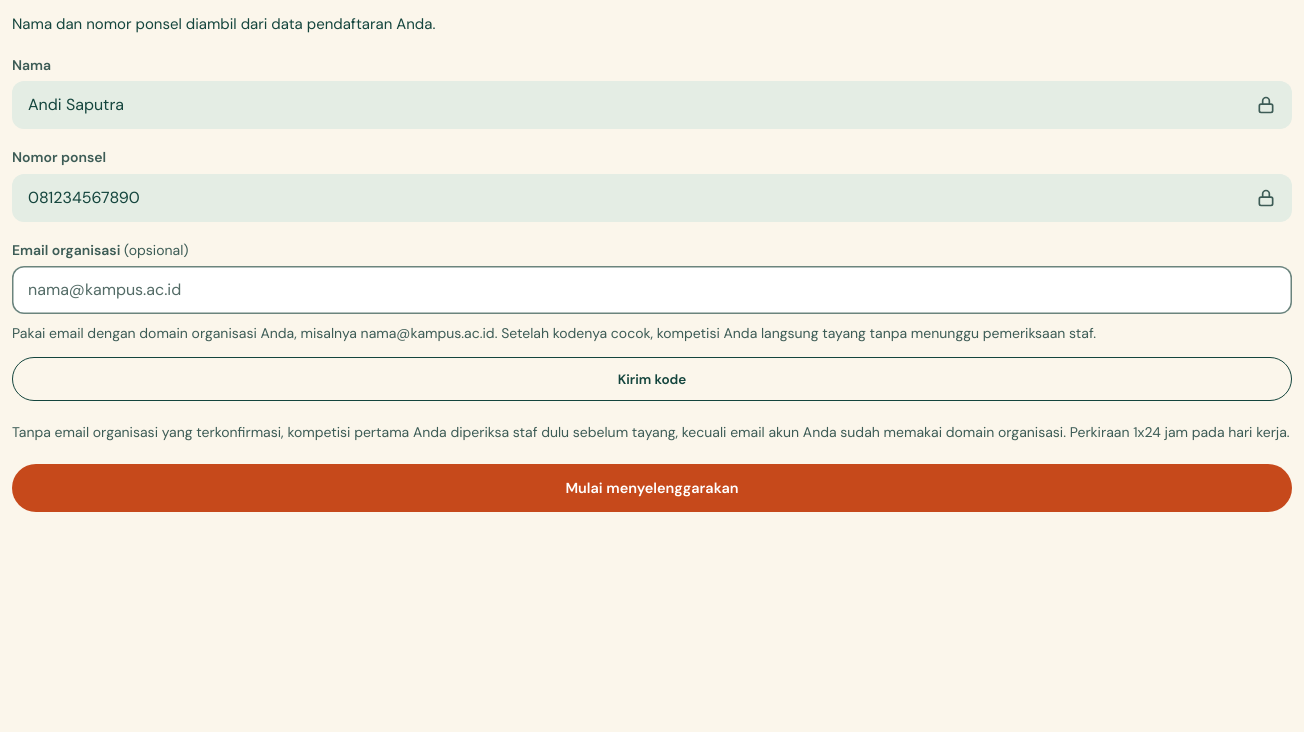
Test: the host step form › drops the staff check sentence once the Email organisasi is confirmed
Expected: the text "Tanpa email organisasi yang terkonfirmasi, kompetisi pertama Anda diperiksa staf dulu sebelum tayang, kecuali email akun" is shown, left=12, top=423, right=1290, bottom=441
In the field labelled "Email organisasi (opsional)": (652, 290) left=12, top=266, right=1292, bottom=314, type "sekretaris@kampus.example"
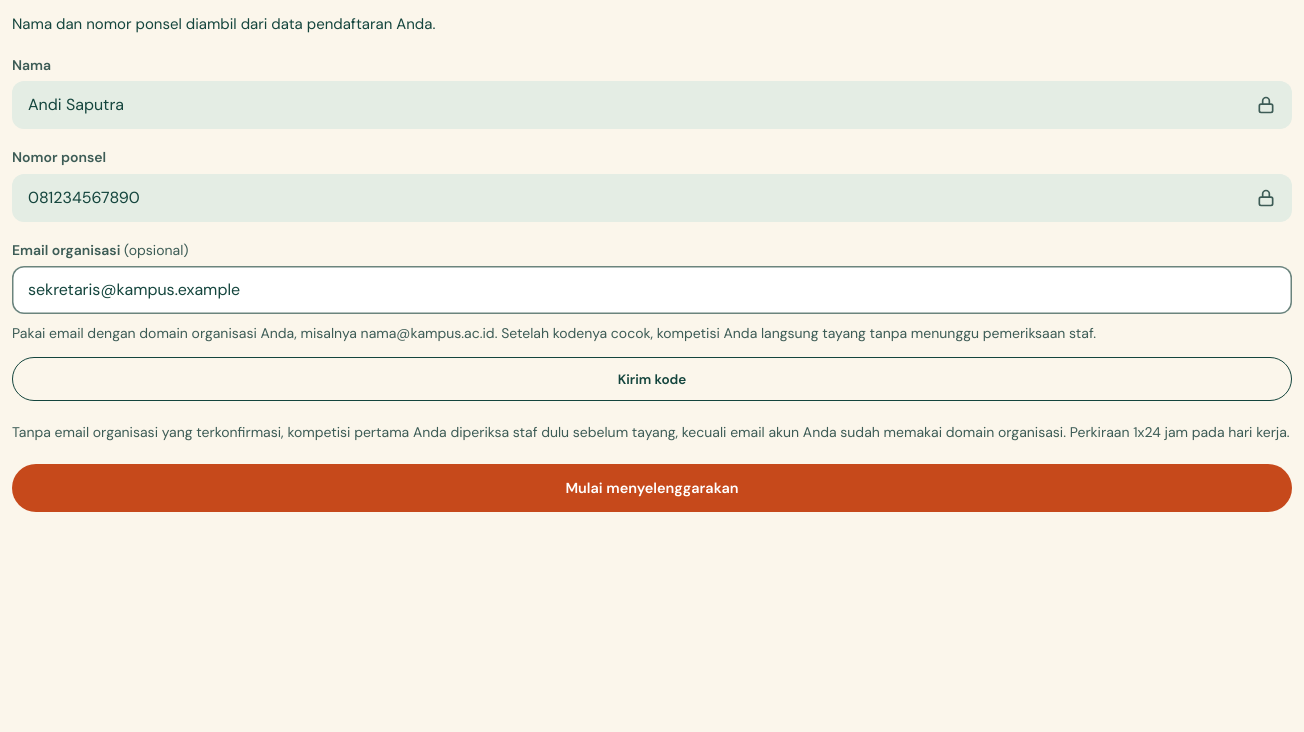
Click the button "Kirim kode": click(652, 379) left=12, top=357, right=1292, bottom=401
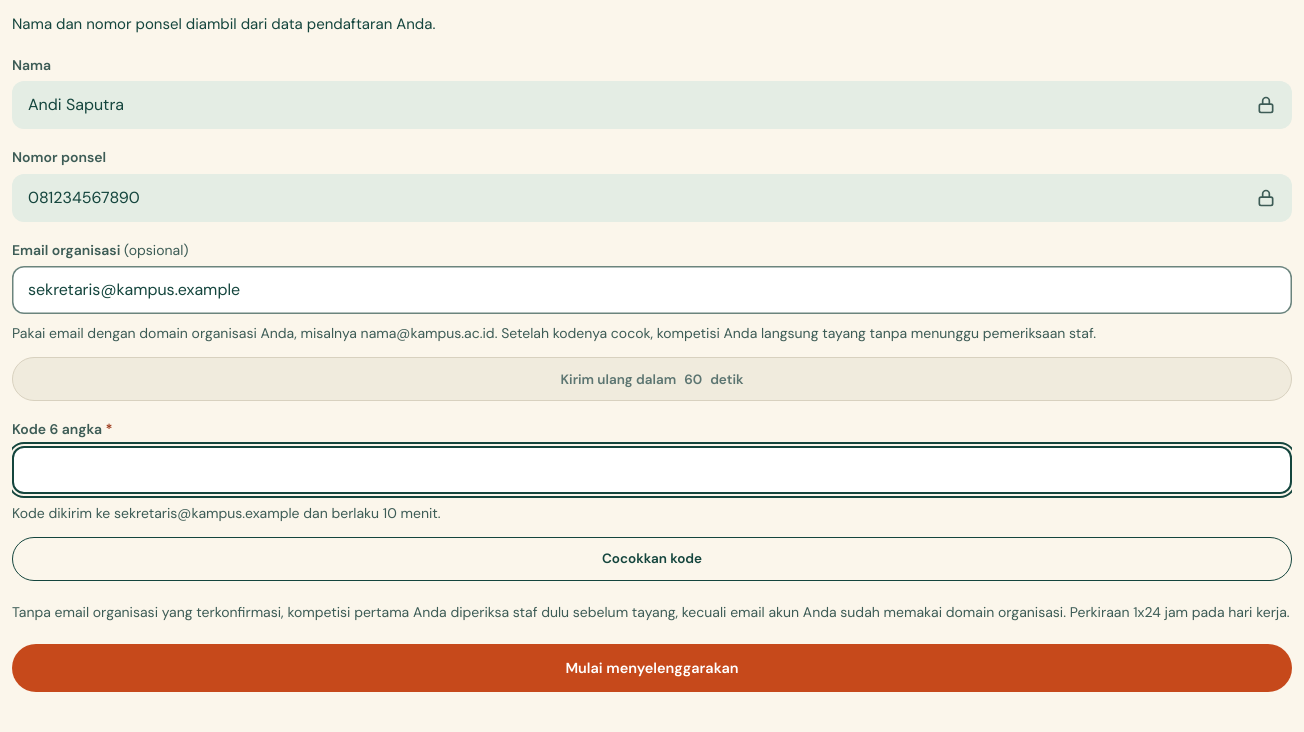
In the field labelled "Kode 6 angka *": (652, 470) left=12, top=446, right=1292, bottom=494, type "123456"
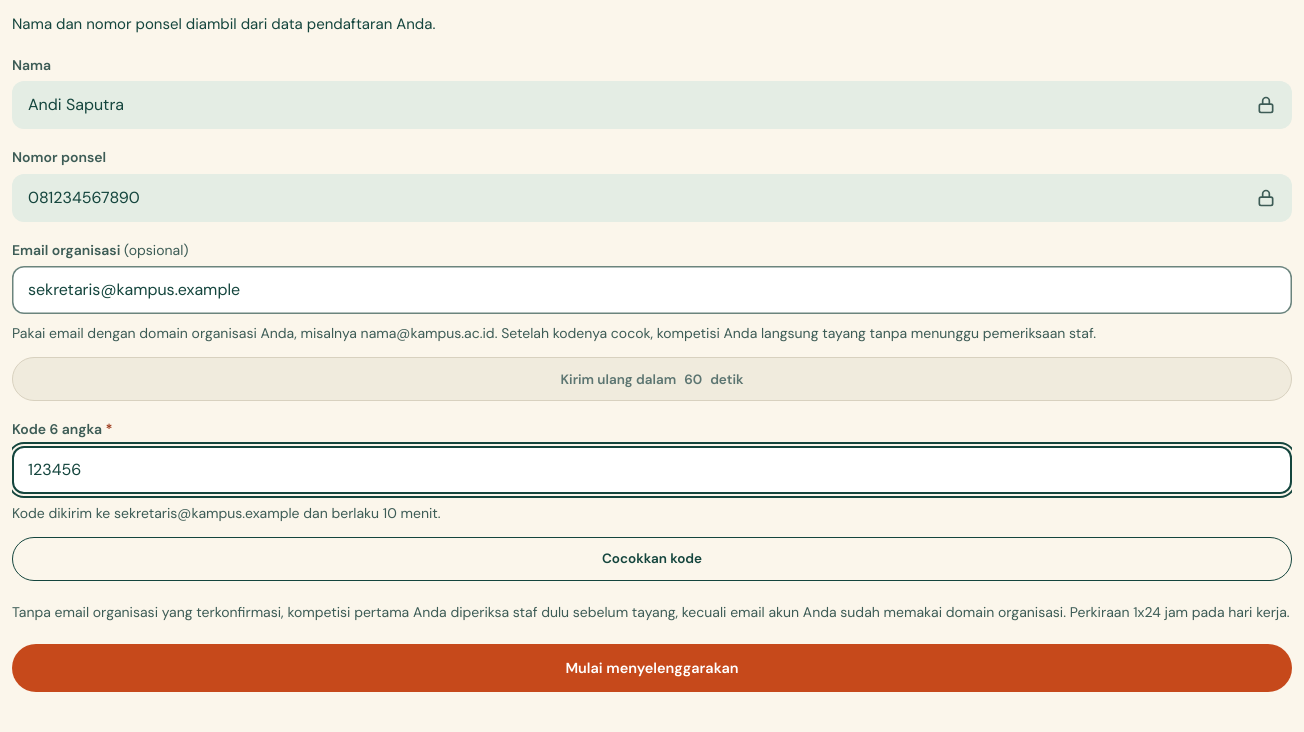
Click the button "Cocokkan kode": click(652, 559) left=12, top=537, right=1292, bottom=581
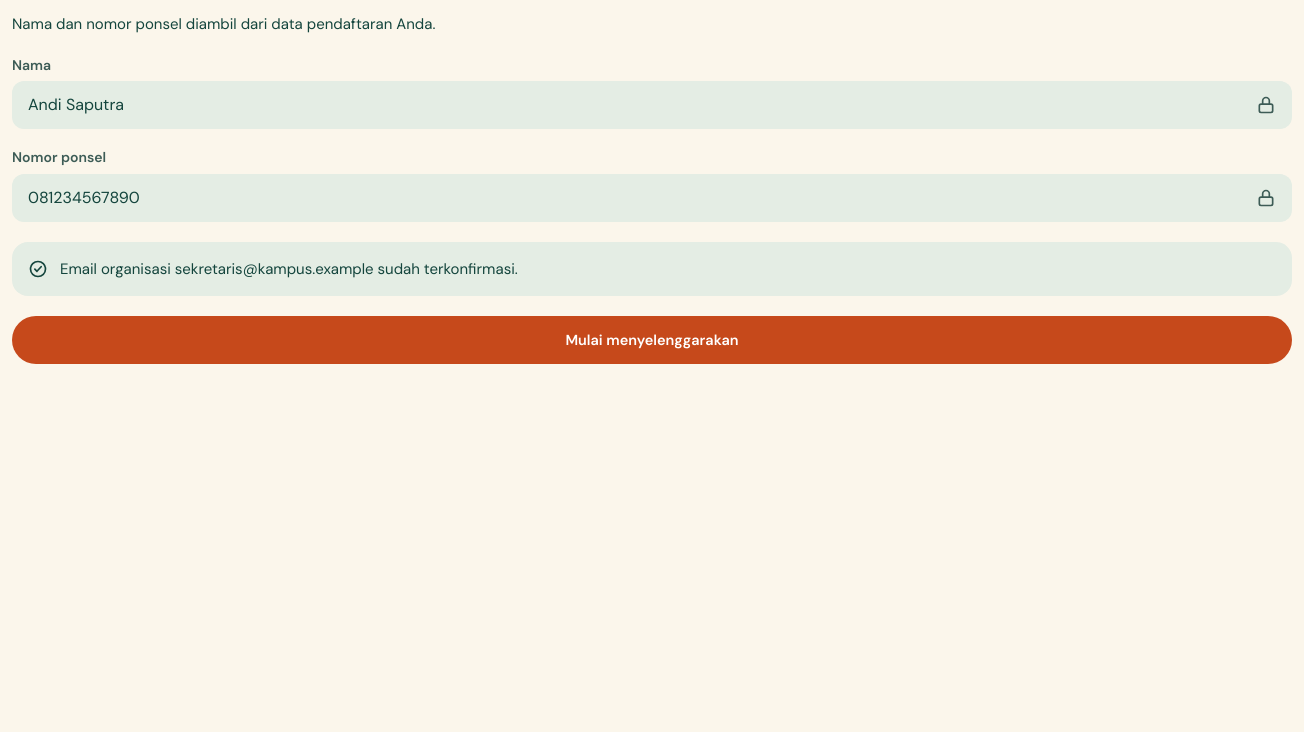
Expected: the text "Email organisasi sekretaris@kampus.example sudah terkonfirmasi." is shown, left=60, top=259, right=518, bottom=279
Expected: the text "Tanpa email organisasi yang terkonfirmasi, kompetisi pertama Anda diperiksa staf dulu sebelum tayang, kecuali email akun" is gone
